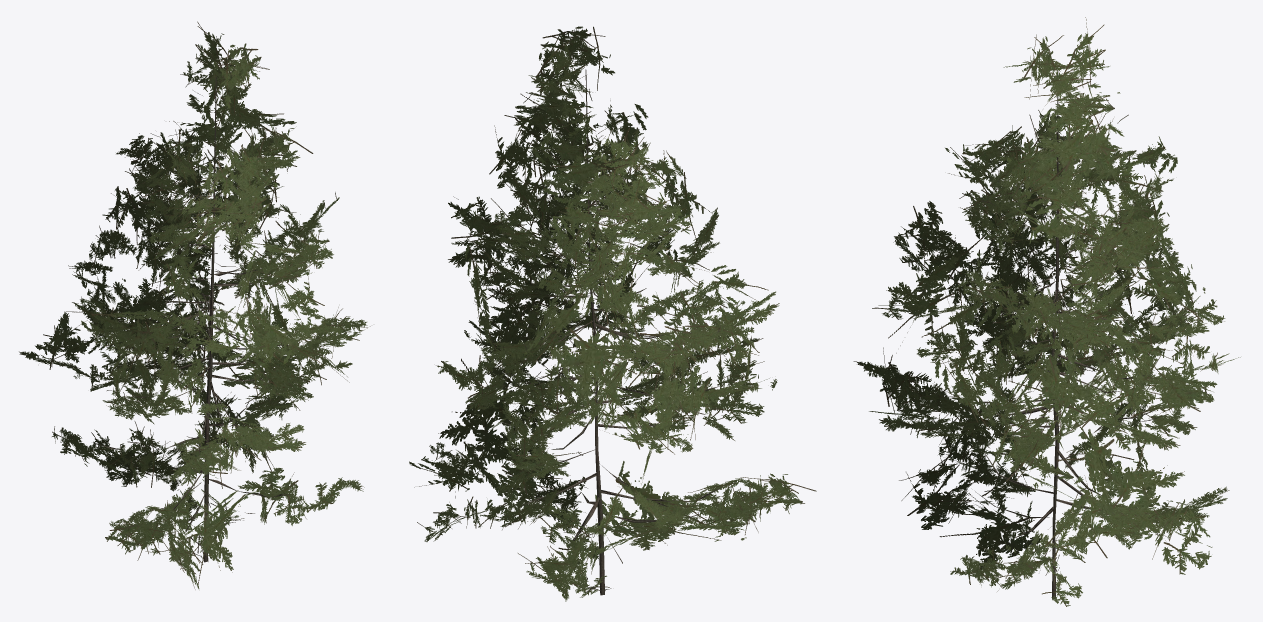
3 renders of one model, left to right at view 1: azimuth 30°, elevation 25°; view 2: azimuth 150°, elevation 25°; view 3: azimuth 270°, elevation 25°, orthographic. The views are drawn at different scales.
Visible parts, largest first — view 1: fir_sapling_medium__a_lod2; view 2: fir_sapling_medium__a_lod2; view 3: fir_sapling_medium__a_lod2.
Boxes of the visible parts, <box> form: fir_sapling_medium__a_lod2: <box>19,21,370,589</box>; fir_sapling_medium__a_lod2: <box>409,26,816,601</box>; fir_sapling_medium__a_lod2: <box>853,17,1240,606</box>.
Bounding box in the file's own units: 5.36 × 8.89 × 5.4.
2 materials, 2 textured.
